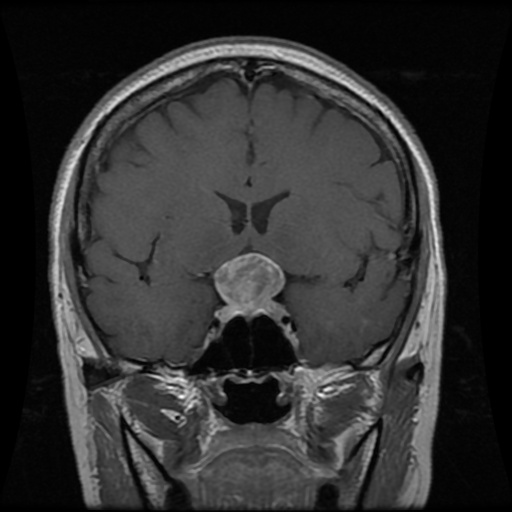pituitary: (214, 250, 287, 323)
